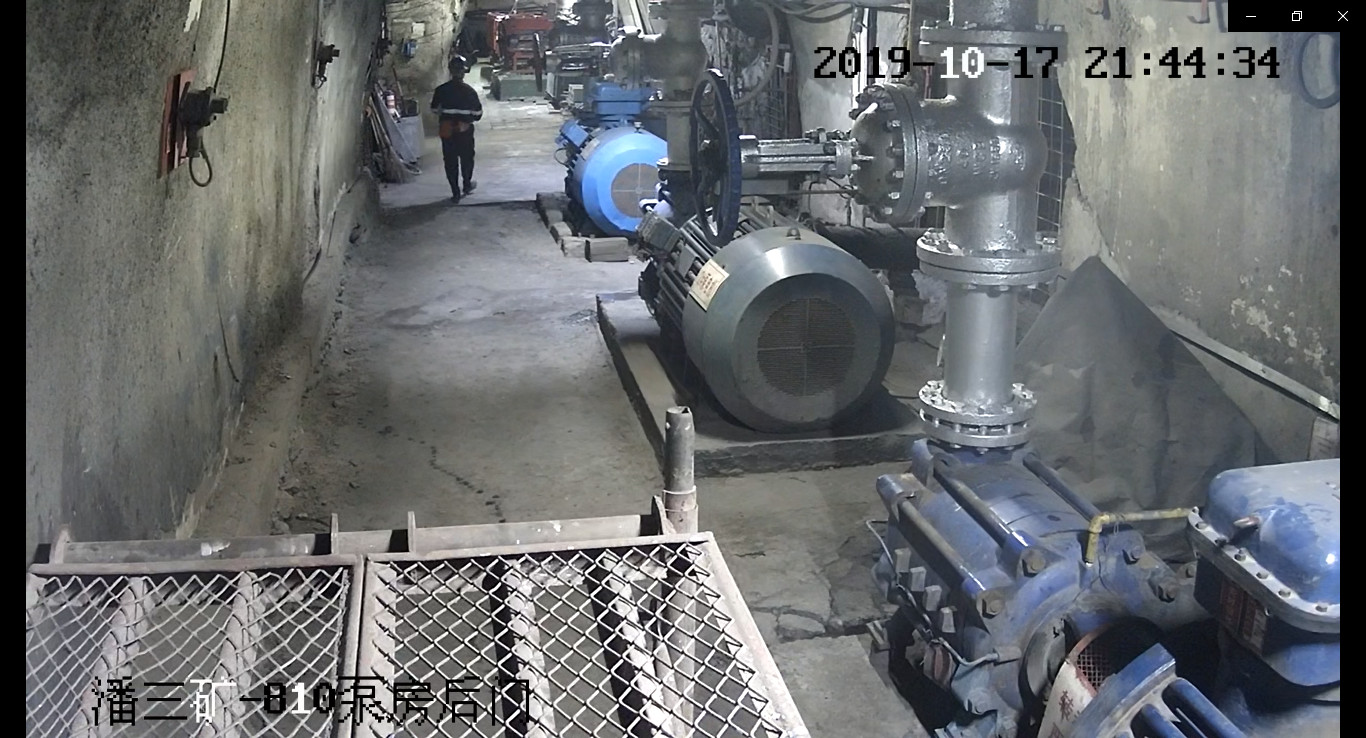helmet: (447, 53, 467, 70)
